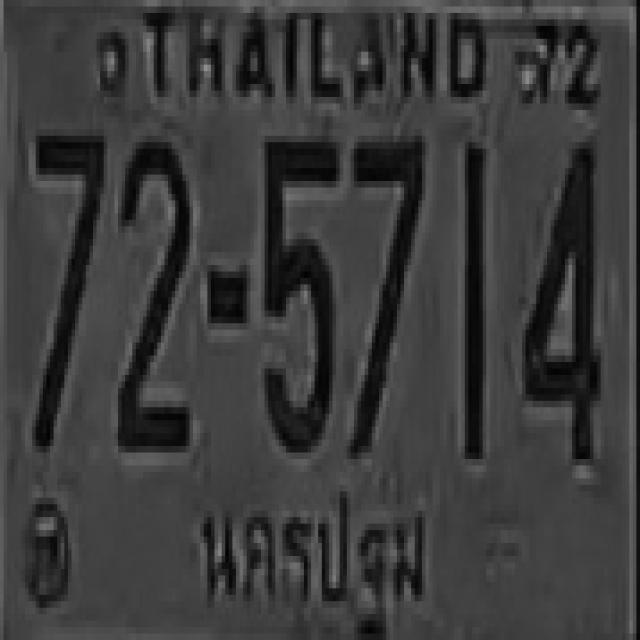1: (463, 139, 484, 456)
2: (116, 132, 188, 443)
4: (522, 136, 601, 459)
5: (261, 129, 336, 446)
7: (348, 130, 424, 452), (32, 129, 104, 446)
NakhonPathom: (190, 468, 450, 640)
